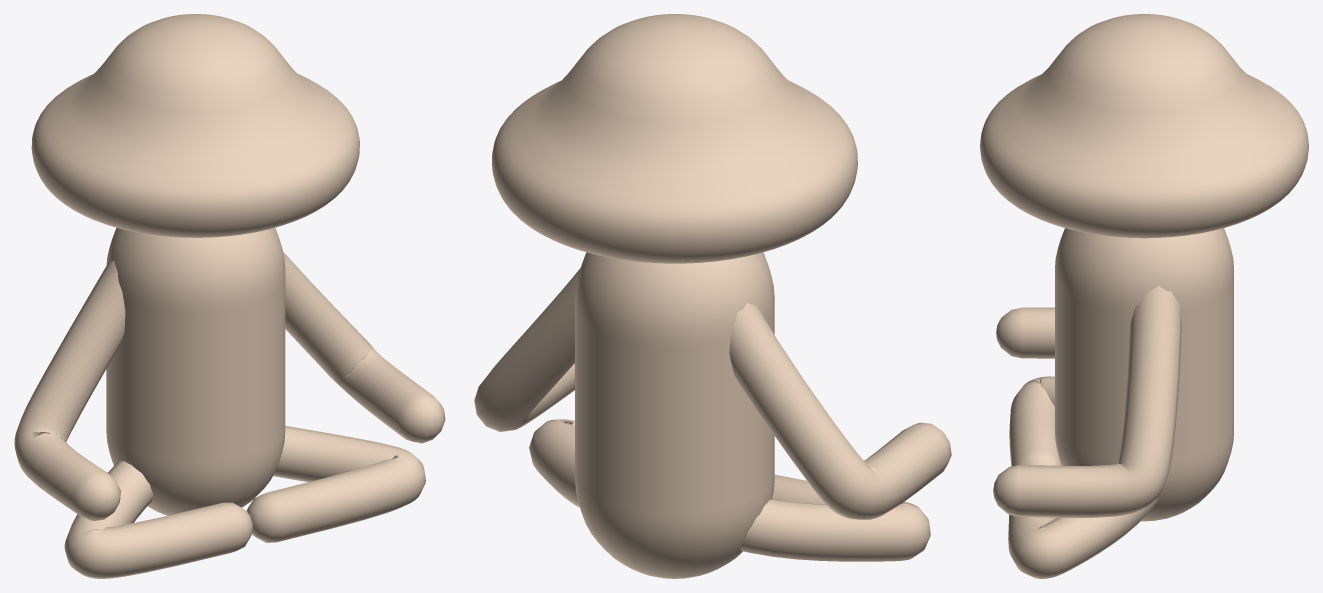
Rendered from shroom_9.glb.
3 views of the same model, side by side, from view 1: azimuth 30°, elevation 25°; view 2: azimuth 150°, elevation 25°; view 3: azimuth 270°, elevation 25° (orthographic). The views are drawn at different scales.
Parts seen in each view (by area): view 1: p.0088; view 2: p.0088; view 3: p.0088.
Boxes of the visible parts, x1,y1,x2,y2 form: p.0088: (14, 14, 445, 578); p.0088: (474, 14, 951, 578); p.0088: (980, 14, 1308, 578).
Bounding box in the file's own units: 1.26 × 1.58 × 0.9657.
